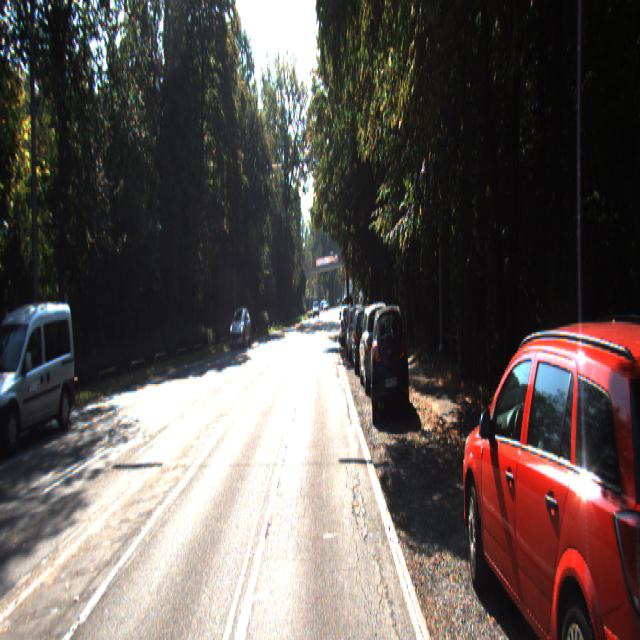Car: (455, 308, 639, 638), (0, 296, 81, 460), (370, 297, 410, 418), (360, 306, 396, 396), (352, 306, 376, 376), (347, 307, 370, 366), (229, 307, 252, 349), (340, 304, 355, 346)
